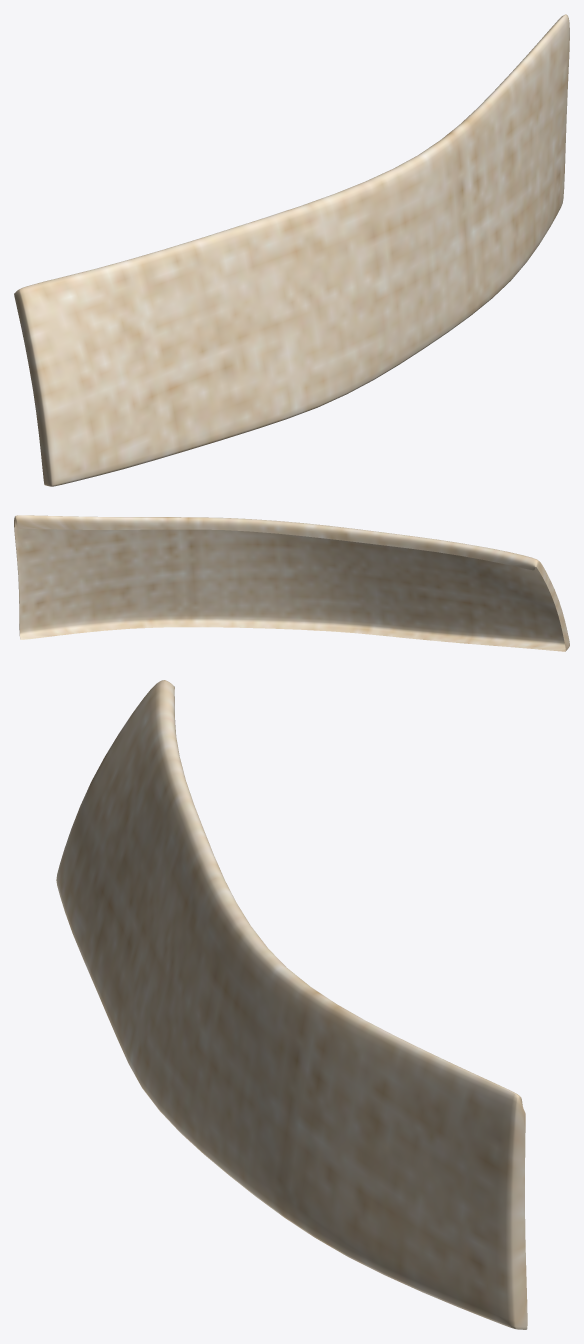
Rendered from upper_Normal_pocket.glb.
3 views of the same model, one above another, from view 1: azimuth 30°, elevation 25°; view 2: azimuth 150°, elevation 25°; view 3: azimuth 270°, elevation 25° (orthographic). The views are drawn at different scales.
Parts seen in each view (by area): view 1: upper_Normal_pocket; view 2: upper_Normal_pocket; view 3: upper_Normal_pocket.
Boxes of the visible parts, left/top/right/bottom form: upper_Normal_pocket: left=14, top=14, right=569, bottom=486; upper_Normal_pocket: left=14, top=515, right=569, bottom=651; upper_Normal_pocket: left=56, top=680, right=527, bottom=1329.
Size of the model in its own units: 0.0125 by 0.00331 by 0.00577.
Materials: 1 (1 with a texture image).
